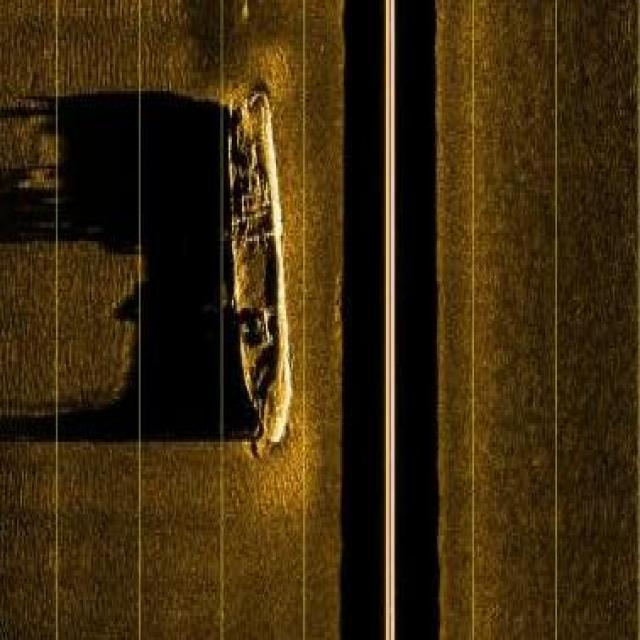shipwreck: (225, 83, 296, 447)
